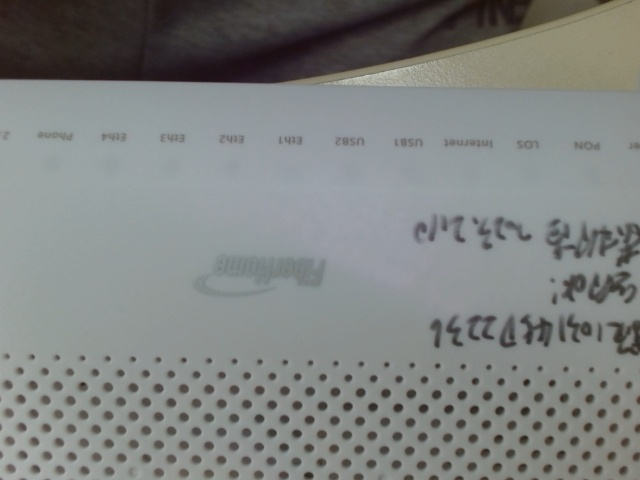AI_FiberHome: (190, 242, 339, 304)
